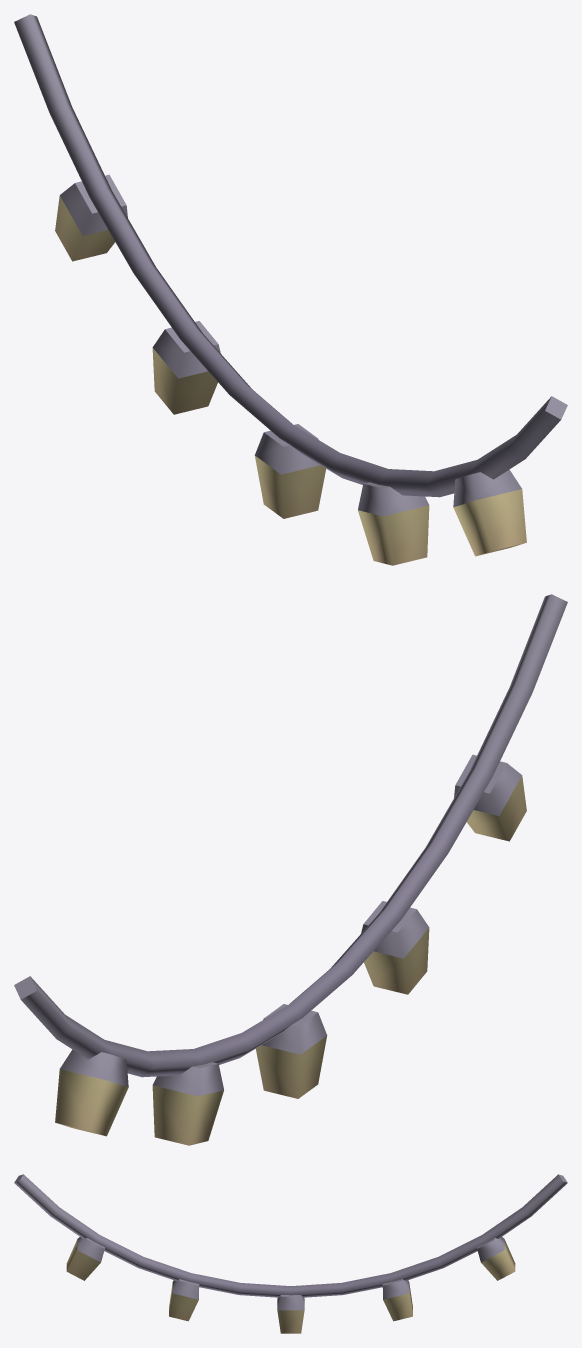
The model's file is lights-fairy-flicker (%wall).glb.
The picture shows the model from 3 angles, top to bottom: view 1: azimuth 30°, elevation 25°; view 2: azimuth 150°, elevation 25°; view 3: azimuth 270°, elevation 25°; orthographic projection. The views are drawn at different scales.
Parts seen in each view (by area): view 1: lights-fairy-flicker (%wall); view 2: lights-fairy-flicker (%wall); view 3: lights-fairy-flicker (%wall).
Boxes of the visible parts, <box> form: lights-fairy-flicker (%wall): <box>14,14,567,565</box>; lights-fairy-flicker (%wall): <box>14,594,567,1145</box>; lights-fairy-flicker (%wall): <box>14,1174,567,1333</box>.
Size of the model in its own units: 0.05 by 0.3142 by 1.02.
